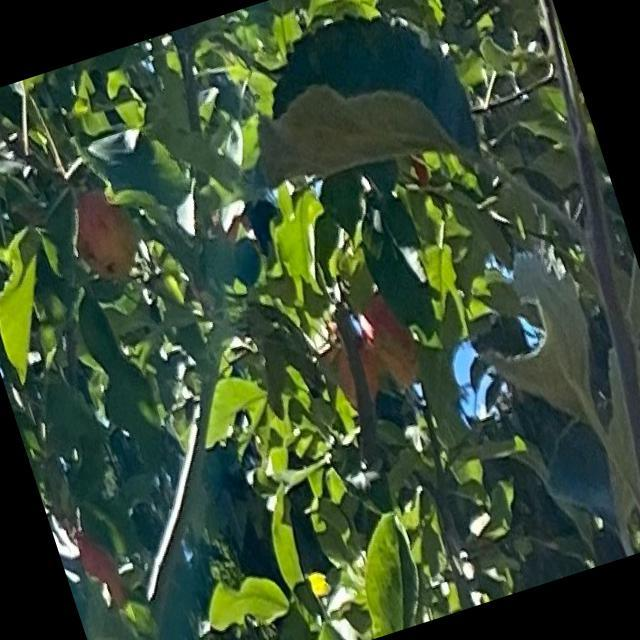100-_ripeness: (355, 282, 429, 394), (64, 184, 145, 284), (312, 314, 389, 418), (67, 526, 132, 616)
